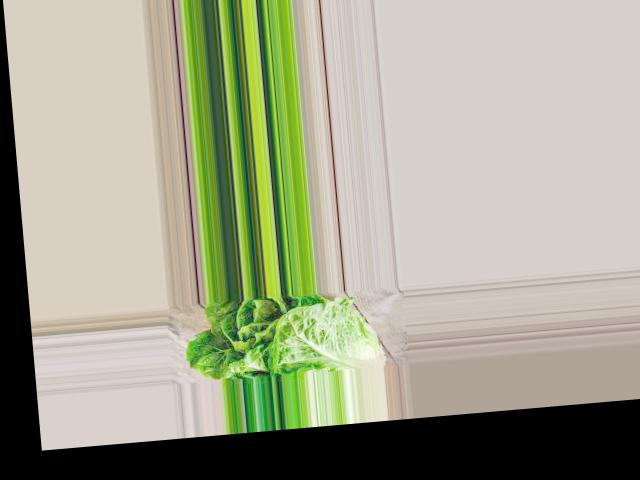lettuce: (193, 287, 380, 381)
